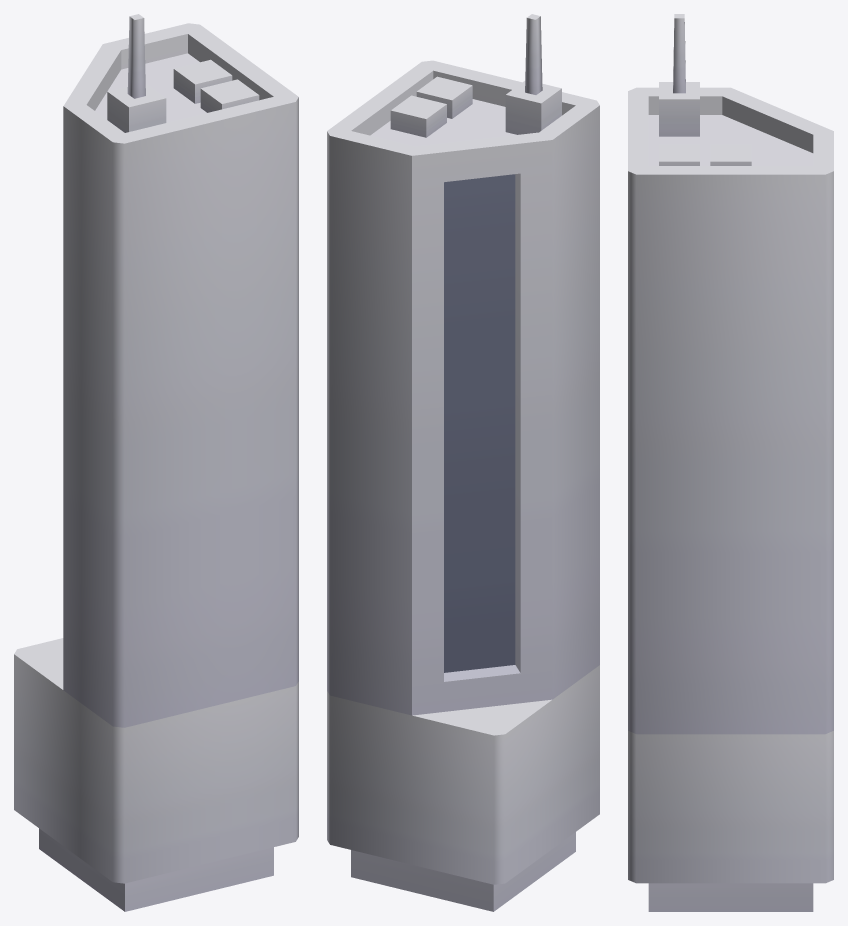
File: low-detail-building-c.glb
The picture shows the model from 3 angles, left to right: view 1: azimuth 30°, elevation 25°; view 2: azimuth 150°, elevation 25°; view 3: azimuth 270°, elevation 25°; orthographic projection. The views are drawn at different scales.
Parts seen in each view (by area): view 1: low-detail-building-c; view 2: low-detail-building-c; view 3: low-detail-building-c.
Boxes of the visible parts, x1=… form: low-detail-building-c: x1=14, y1=14, x2=298, y2=911; low-detail-building-c: x1=327, y1=14, x2=599, y2=911; low-detail-building-c: x1=628, y1=14, x2=833, y2=911.
Bounding box in the file's own units: 0.5 × 2.25 × 0.5.
1 material, 1 textured.
